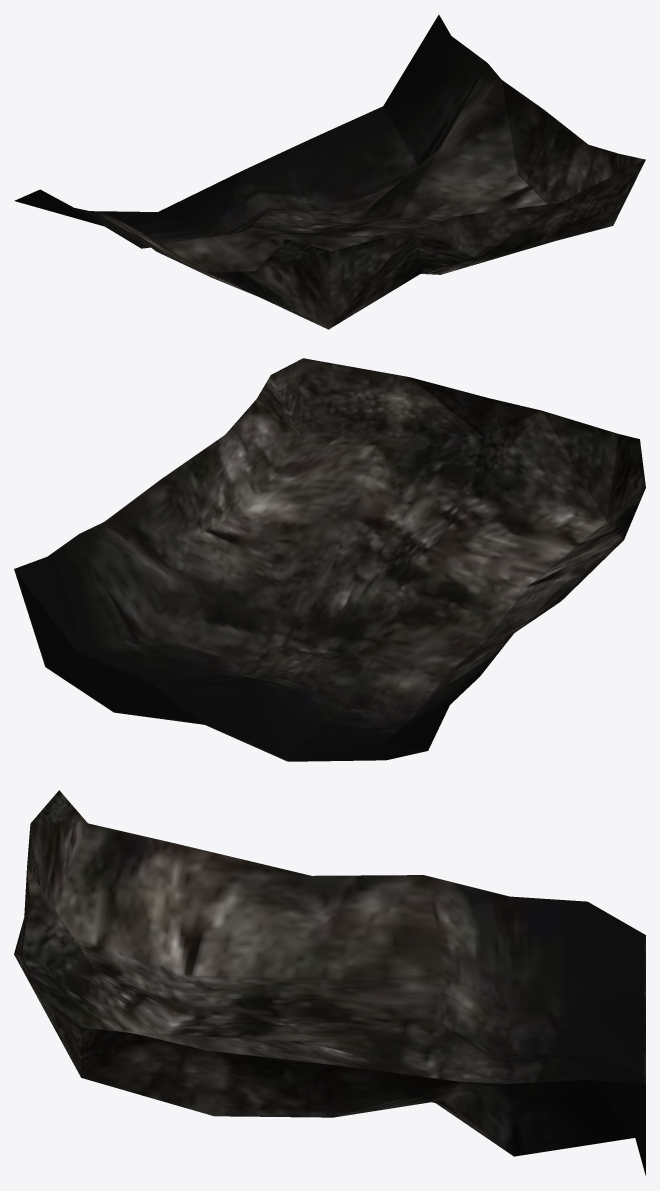
The picture shows the model from 3 angles, top to bottom: view 1: azimuth 30°, elevation 25°; view 2: azimuth 150°, elevation 25°; view 3: azimuth 270°, elevation 25°; orthographic projection. The views are drawn at different scales.
Parts seen in each view (by area): view 1: model_Object06; view 2: model_Object06; view 3: model_Object06.
Part boxes in pixels (bbox=[...]): model_Object06: bbox=[14, 14, 645, 329]; model_Object06: bbox=[14, 358, 645, 761]; model_Object06: bbox=[14, 790, 645, 1175].
Size of the model in its own units: 4.55 by 1.83 by 4.83.
Materials: 1 (1 with a texture image).
